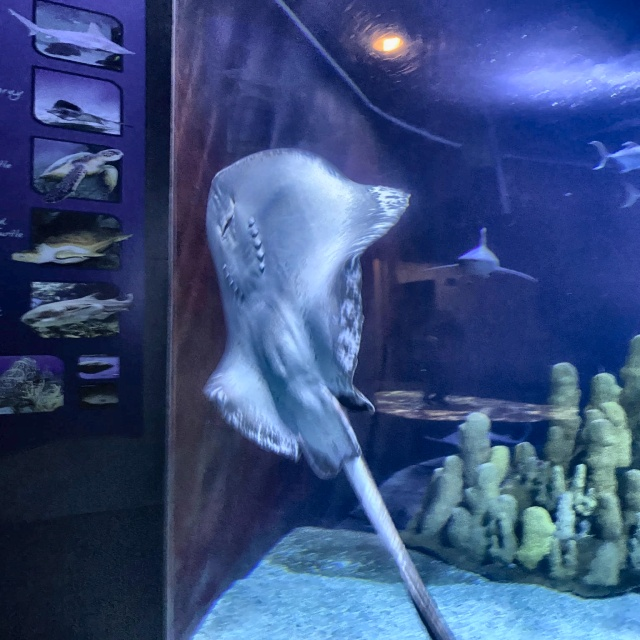fish: (587, 140, 639, 175), (619, 181, 639, 209)
shark: (425, 227, 540, 288)
stingray: (205, 143, 409, 480)
